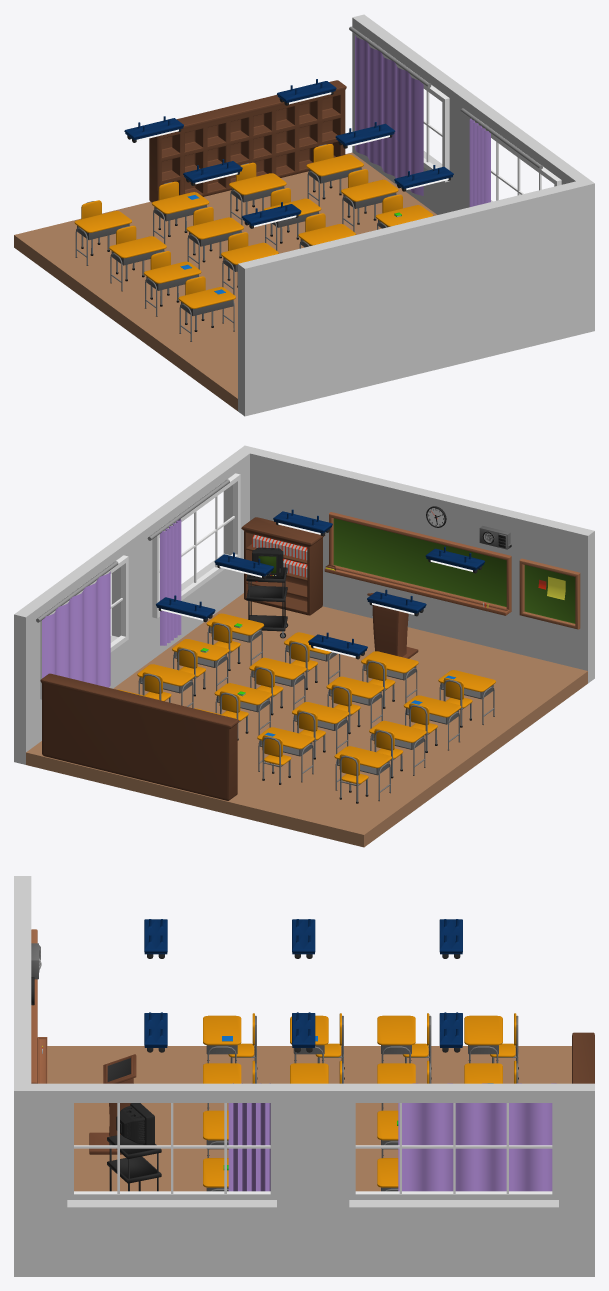
The model's file is classroom.glb.
3 views of the same model, one above another, from view 1: azimuth 30°, elevation 25°; view 2: azimuth 150°, elevation 25°; view 3: azimuth 270°, elevation 25° (orthographic). The views are drawn at different scales.
Visible parts, largest first — view 1: demoscene_21, demoscene_7, demoscene_9, demoscene_18, demoscene_10, demoscene_19; view 2: demoscene_21, demoscene_7, demoscene_9, demoscene, demoscene_18, demoscene_10, demoscene_8, demoscene_1, demoscene_19, demoscene_13, demoscene_12, demoscene_14 (+1 smaller); view 3: demoscene_21, demoscene_7, demoscene_18, demoscene_10, demoscene_19, demoscene_13, demoscene_12, demoscene_9, demoscene.
Boxes of the visible parts, box(x1,y1,x2,y2) form: demoscene_21: box(14, 14, 594, 416); demoscene_7: box(74, 144, 433, 341); demoscene_9: box(149, 80, 346, 202); demoscene_18: box(349, 26, 431, 195); demoscene_10: box(124, 79, 453, 228); demoscene_19: box(460, 108, 542, 206); demoscene_21: box(14, 445, 594, 847); demoscene_7: box(117, 613, 495, 803); demoscene_9: box(40, 673, 239, 800); demoscene: box(324, 512, 511, 615); demoscene_18: box(36, 561, 118, 687); demoscene_10: box(156, 509, 484, 659); demoscene_8: box(241, 517, 325, 615); demoscene_1: box(519, 558, 580, 629); demoscene_19: box(147, 479, 229, 645); demoscene_13: box(246, 547, 288, 638); demoscene_12: box(367, 593, 418, 658); demoscene_14: box(252, 534, 307, 560); demoscene_21: box(14, 876, 594, 1276); demoscene_7: box(203, 1013, 518, 1191); demoscene_18: box(398, 1083, 556, 1191); demoscene_10: box(144, 919, 462, 1052); demoscene_19: box(228, 1083, 270, 1191); demoscene_13: box(107, 1103, 161, 1191); demoscene_12: box(89, 1054, 136, 1154); demoscene_9: box(572, 1032, 594, 1083); demoscene: box(31, 979, 47, 1083).
Size of the model in its own units: 8.78 by 3.54 by 10.03.
3 materials, 2 textured.
